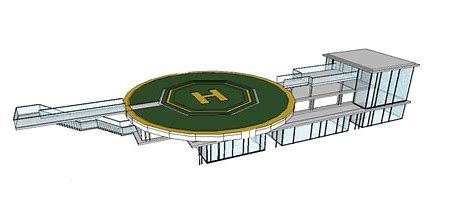H: (191, 89, 228, 104)
